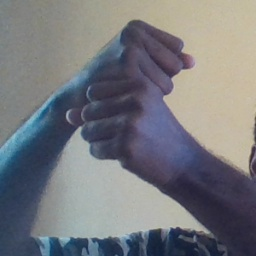G: (64, 16, 195, 163)
